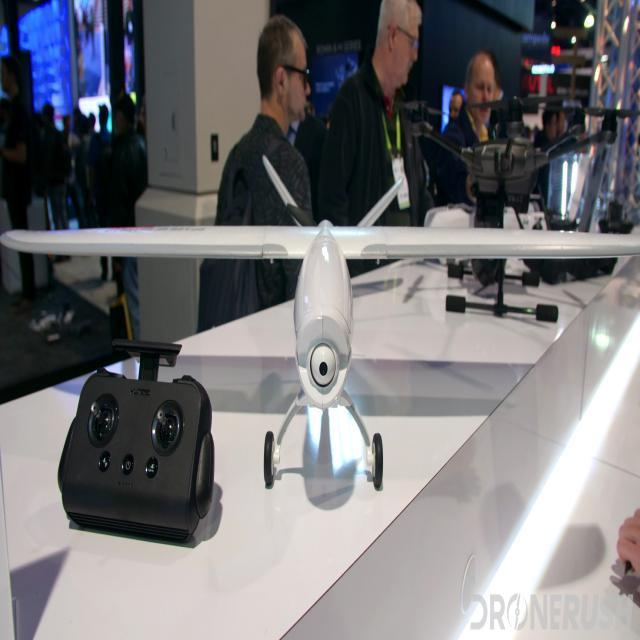iha: (4, 183, 640, 490)
